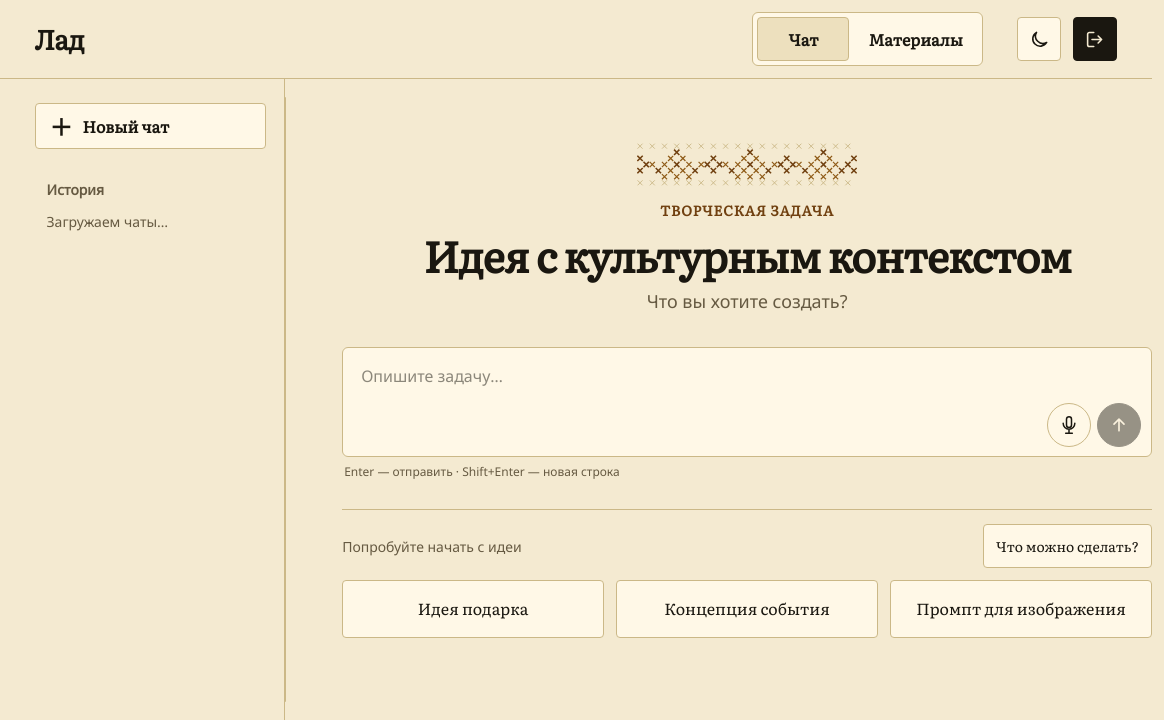
Scenario: logout sends CSRF and clears local chat before another login
The image size is (1164, 720).
Expected: the heading "Идея с культурным контекстом" is shown, top-left (424, 222), bottom-right (1071, 286)
Type "Локальный секретный черновик" into the text box named "Ваша задача". click: (747, 402)
box: top-left (343, 348), bottom-right (1151, 456)
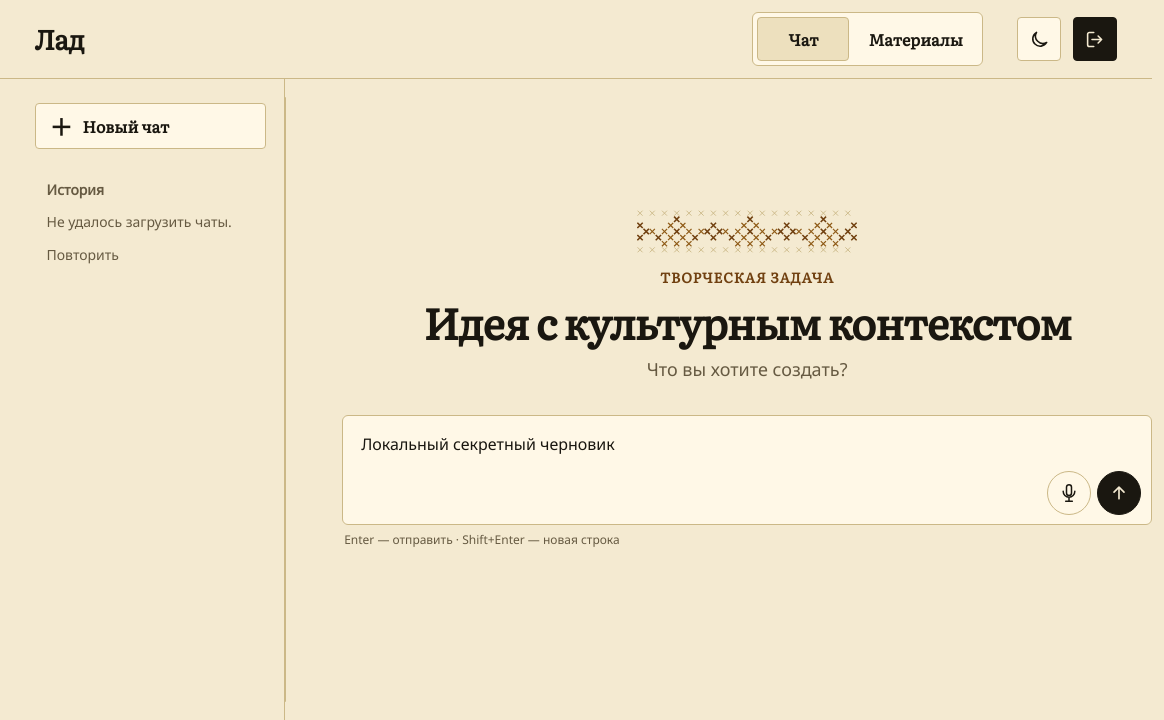
Click the button named "Отправить". click: click(1119, 493)
box: top-left (1097, 471), bottom-right (1141, 515)
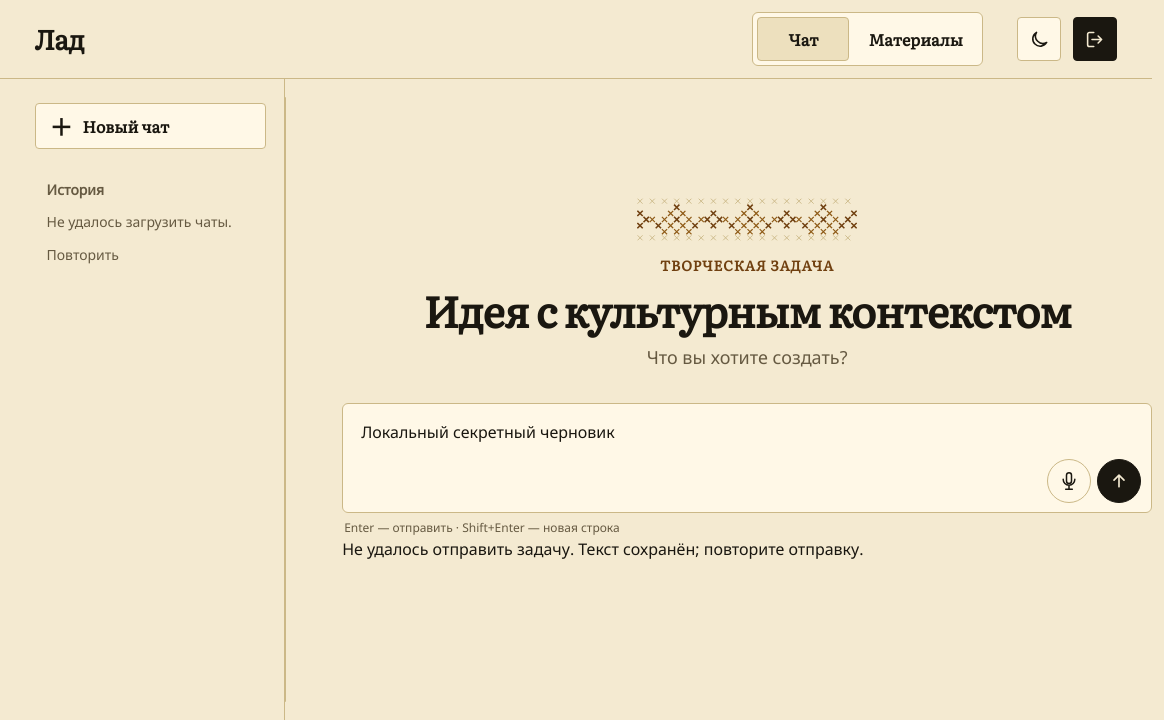
Click the button named "Выйти". click: click(1096, 39)
box: top-left (1074, 17), bottom-right (1118, 61)
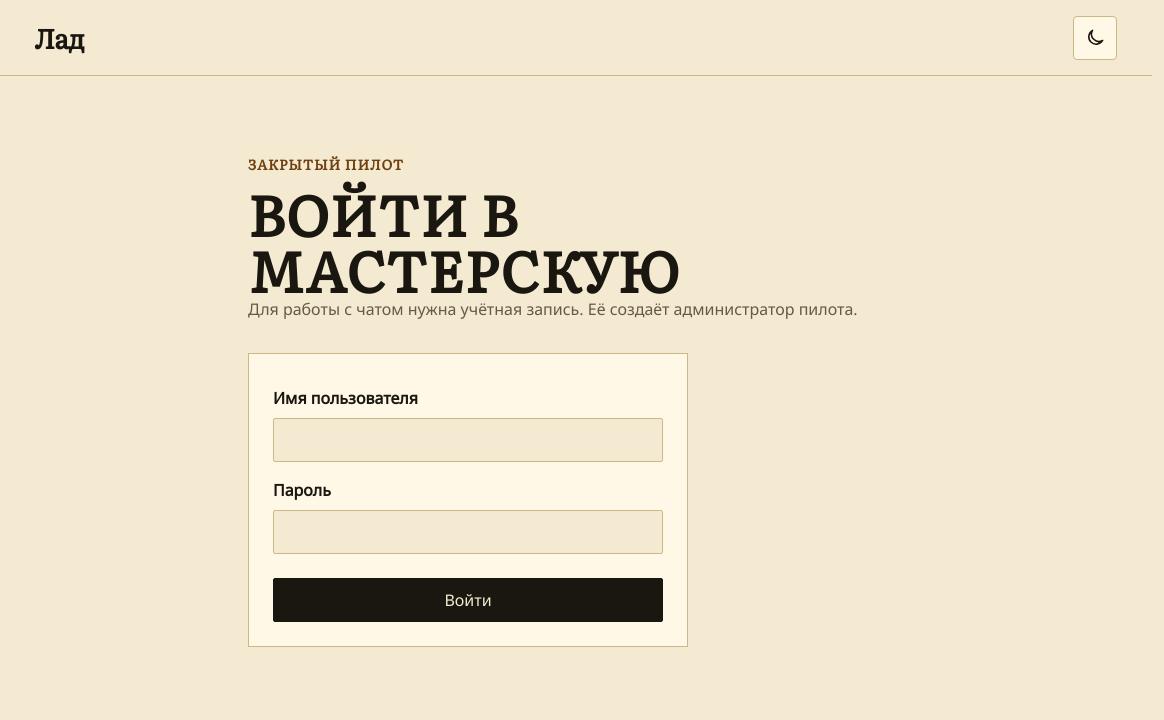
Result: the heading "Войти в мастерскую" is shown at top-left (248, 171), bottom-right (680, 310)
Type "second" into the field labelled "Имя пользователя". click: (468, 440)
box: top-left (273, 418), bottom-right (663, 462)
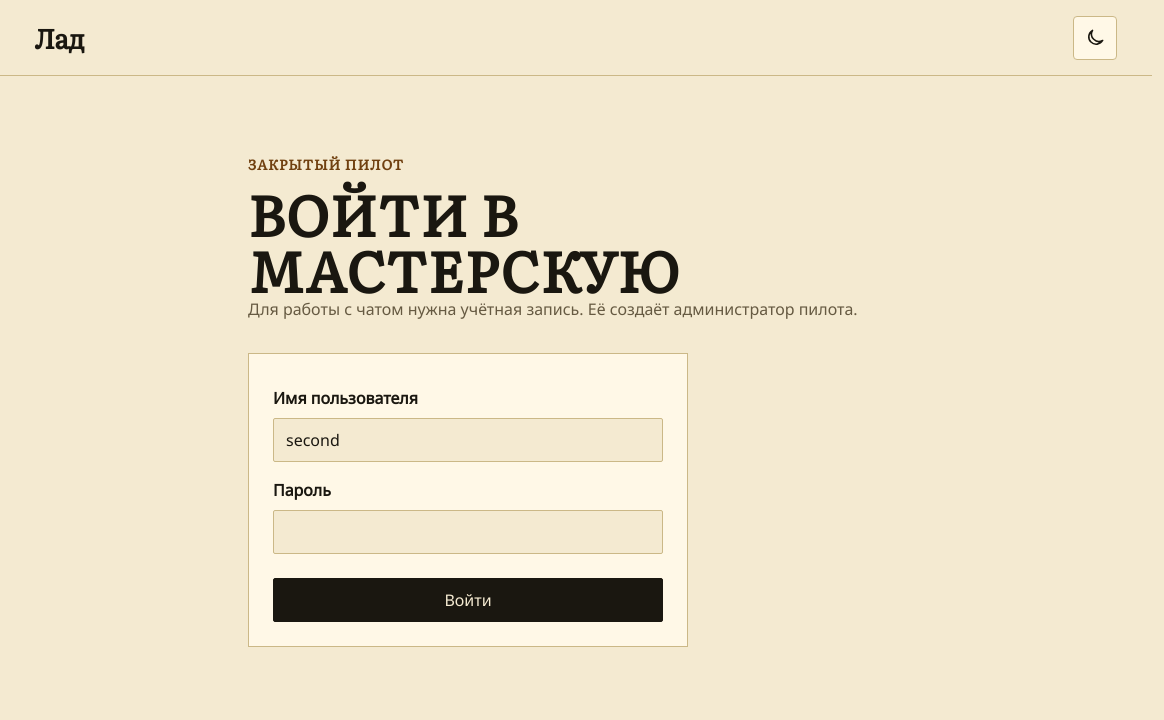
Type "password" into the password field labelled "Пароль". click: (468, 532)
box: top-left (273, 510), bottom-right (663, 554)
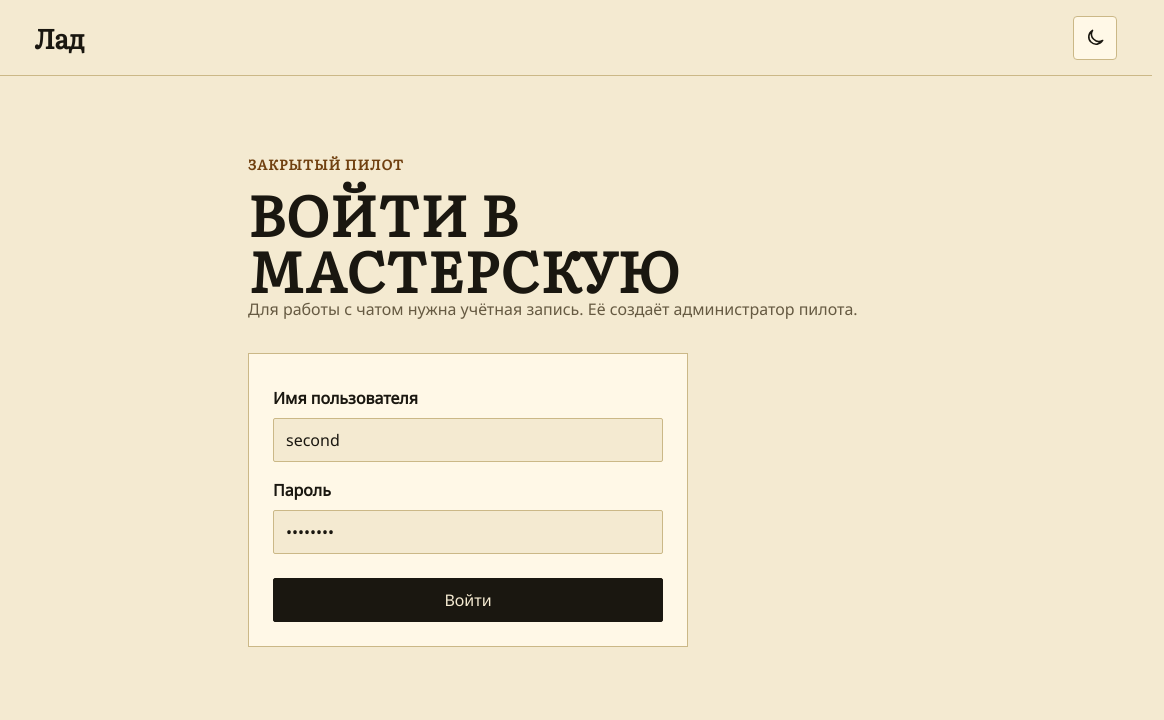
Click the button "Войти". click: click(468, 600)
box: top-left (273, 578), bottom-right (663, 622)
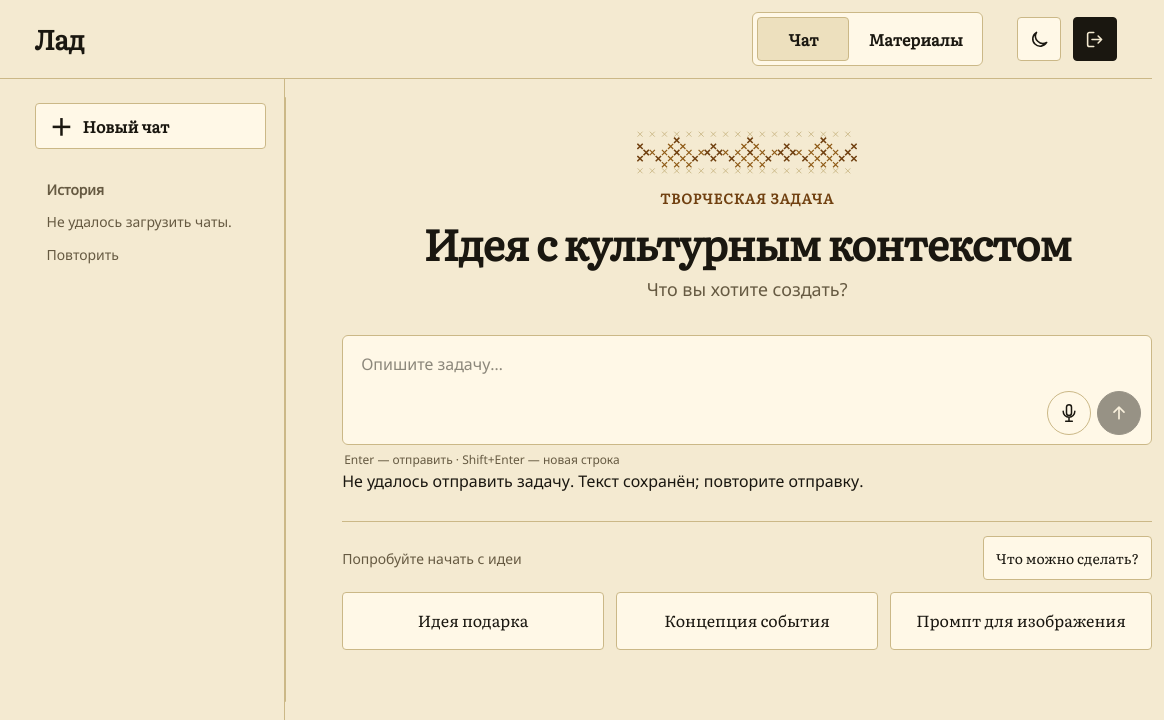
Expected: the text "Локальный секретный черновик" is not shown
Result: the heading "Идея с культурным контекстом" is shown at top-left (424, 210), bottom-right (1071, 274)
Result: the text box named "Ваша задача" is empty at top-left (343, 336), bottom-right (1151, 444)
